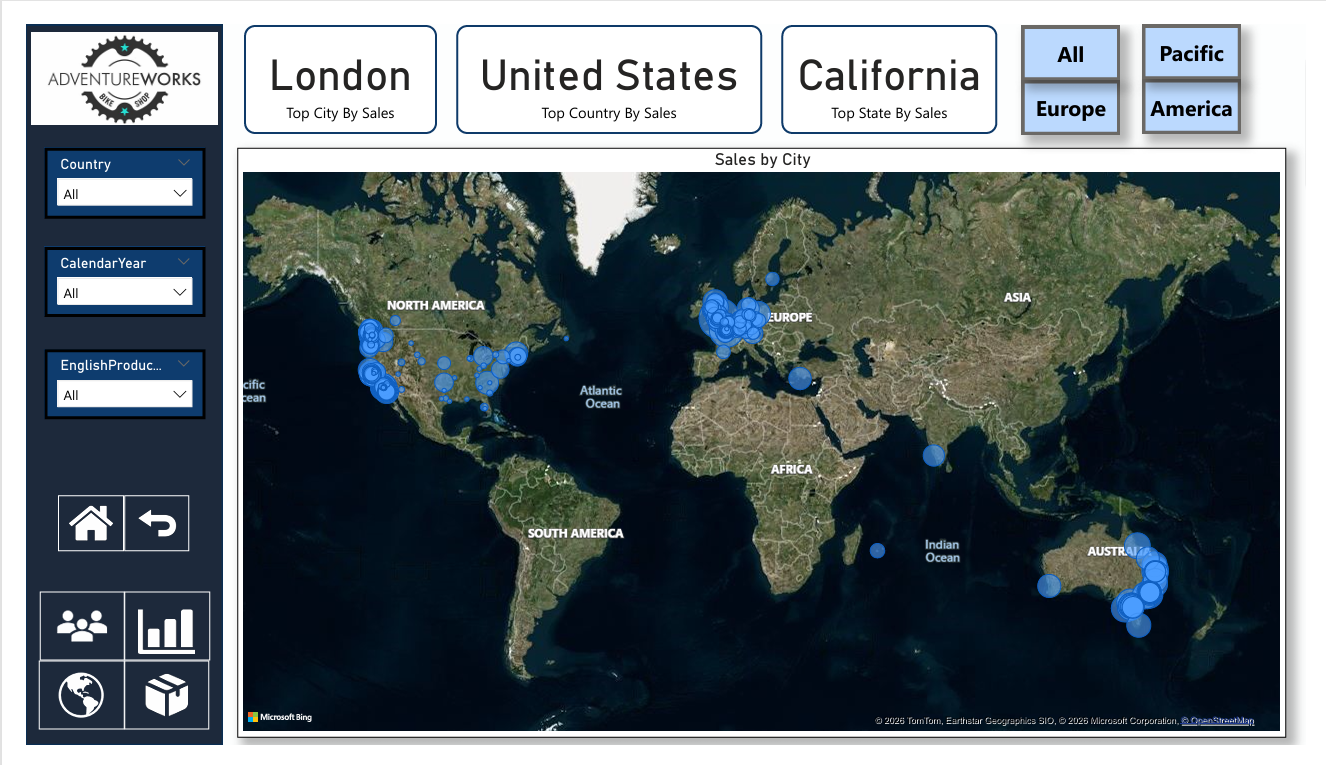

This screenshot's page, from the dashboard's own definition file:
{"tool":"powerbi","page":{"name":"Geographic Analysis","canvas":[1280,720],"ordinal":1},"visuals":[{"type":"shape","box":[0,0,196.5,719.8],"z":0},{"type":"image","box":[1,0,195.5,108.9],"z":1000},{"type":"slicer","fields":{"Values":["DimGeography.EnglishCountryRegionName"]},"box":[18.5,122.6,161.5,71],"z":2000},{"type":"slicer","fields":{"Values":["DimDate.CalendarYear"]},"box":[18.6,221.8,161.2,70.4],"z":3000},{"type":"slicer","fields":{"Values":["DimProductCategory.EnglishProductCategoryName"]},"box":[18.6,324.4,161.2,70.4],"z":4000},{"type":"image","box":[13.6,566.1,84.6,69.1],"z":5000},{"type":"image","box":[12.6,635.1,85.6,69.1],"z":6000},{"type":"image","box":[32.1,469.8,66.1,56.4],"z":7000},{"type":"image","box":[98.2,635.1,84.6,69.1],"z":8000},{"type":"image","box":[98.2,469.8,65.2,56.4],"z":9000},{"type":"image","box":[98.2,566.1,85.6,69.1],"z":10000},{"type":"map","title":"Sales by City","fields":{"Size":["Sum(FactInternetSales.SalesAmount)"],"Category":["DimGeography.City"]},"box":[211.2,122.6,1049.3,589.9],"z":11000},{"type":"card","fields":{"Values":["Min(Top City.Best City)"]},"box":[218,0,192.7,109],"z":12000},{"type":"card","fields":{"Values":["Min(Top Country.Best Country)"]},"box":[430.2,0,305.6,109],"z":13000},{"type":"card","fields":{"Values":["Min(Top State.Best State)"]},"box":[755.3,0,216.1,109],"z":14000},{"type":"actionButton","box":[995.6,55.3,98.2,54.2],"z":15000},{"type":"slicer","fields":{"Values":["DimGeography.Continent"]},"box":[1235.2,11.7,12.7,15.6],"z":16000},{"type":"actionButton","box":[1116.3,54.2,98.2,54.2],"z":17000},{"type":"actionButton","box":[1116.3,0,98.2,54.2],"z":18000},{"type":"actionButton","box":[995.6,1.1,98.2,54.2],"z":19000}]}

Visuals, with their boxes in screenshot pixels (x1, y1, x2, y2), scaled from the page's 1280x720 canvas onto the 1326x765 screenshot:
shape: x1=0, y1=0, x2=204, y2=764
image: x1=1, y1=0, x2=204, y2=116
slicer - DimGeography.EnglishCountryRegionName: x1=19, y1=130, x2=186, y2=206
slicer - DimDate.CalendarYear: x1=19, y1=236, x2=186, y2=310
slicer - DimProductCategory.EnglishProductCategoryName: x1=19, y1=345, x2=186, y2=419
image: x1=14, y1=601, x2=102, y2=675
image: x1=13, y1=675, x2=102, y2=748
image: x1=33, y1=499, x2=102, y2=559
image: x1=102, y1=675, x2=189, y2=748
image: x1=102, y1=499, x2=169, y2=559
image: x1=102, y1=601, x2=190, y2=675
"Sales by City" map: x1=219, y1=130, x2=1306, y2=757
card - Min(Top City.Best City): x1=226, y1=0, x2=425, y2=116
card - Min(Top Country.Best Country): x1=446, y1=0, x2=762, y2=116
card - Min(Top State.Best State): x1=782, y1=0, x2=1006, y2=116
actionButton: x1=1031, y1=59, x2=1133, y2=116
slicer - DimGeography.Continent: x1=1280, y1=12, x2=1293, y2=29
actionButton: x1=1156, y1=58, x2=1258, y2=115
actionButton: x1=1156, y1=0, x2=1258, y2=58
actionButton: x1=1031, y1=1, x2=1133, y2=59
